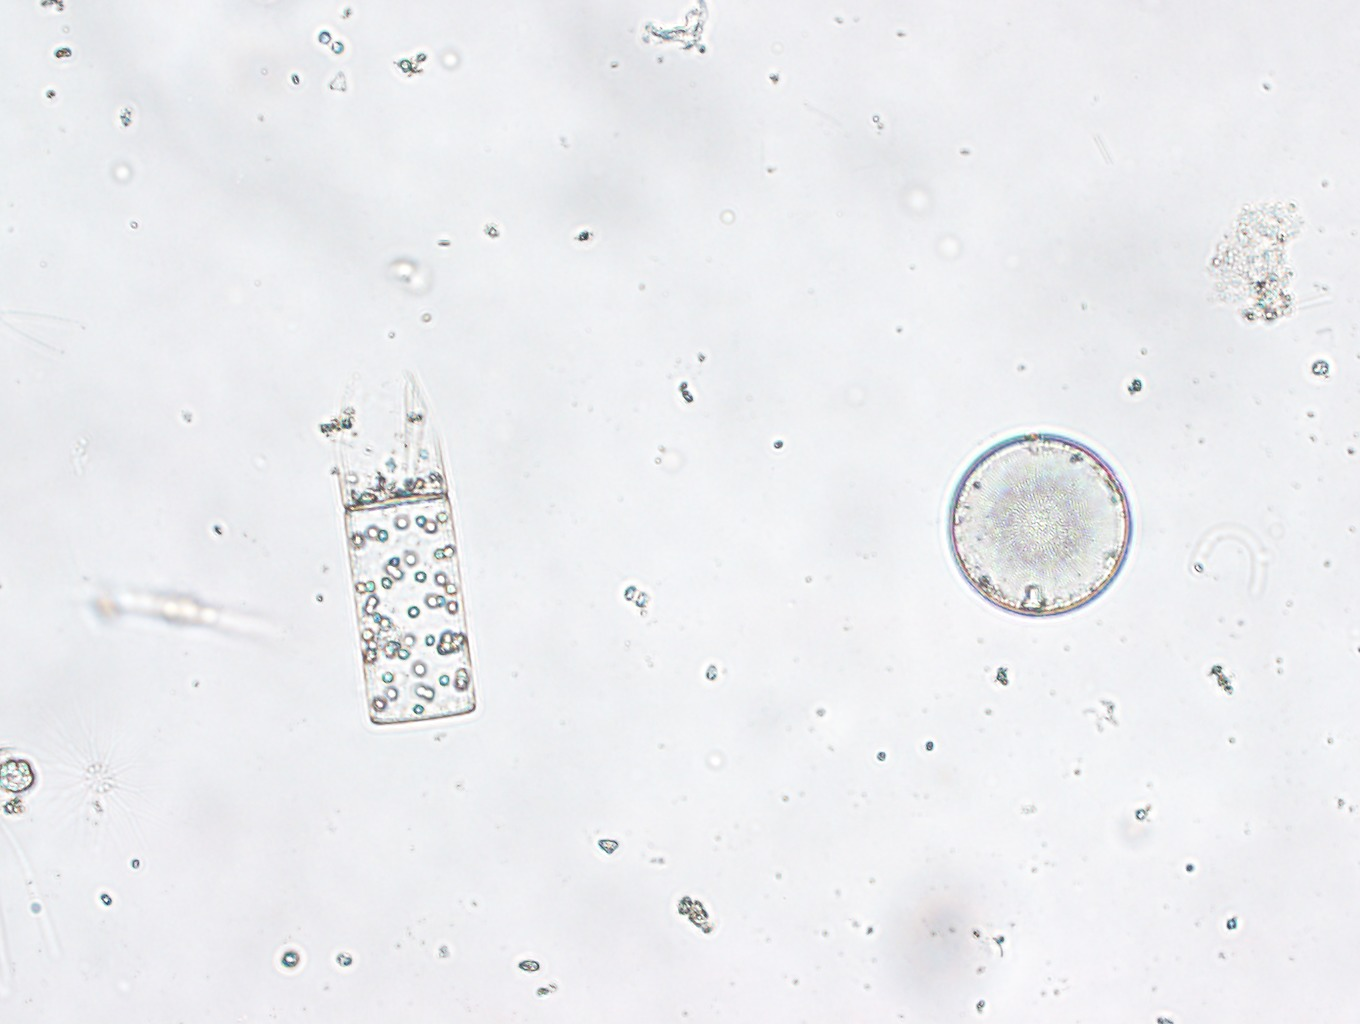coscinodiscus: (946, 431, 1133, 618)
guinardia flaccida: (332, 433, 477, 727)
